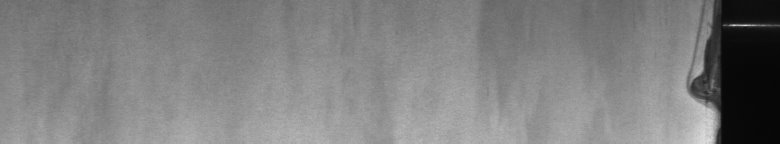hb: (680, 4, 704, 112)
